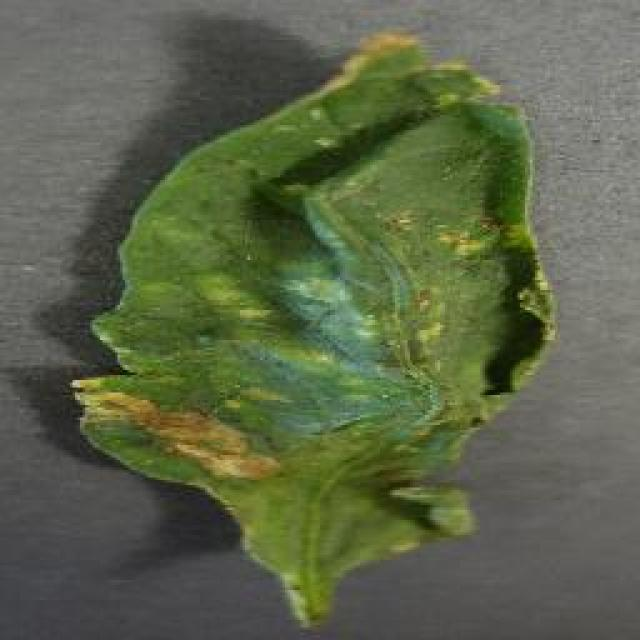Tomato___Bacterial_spot: (66, 28, 562, 626)
